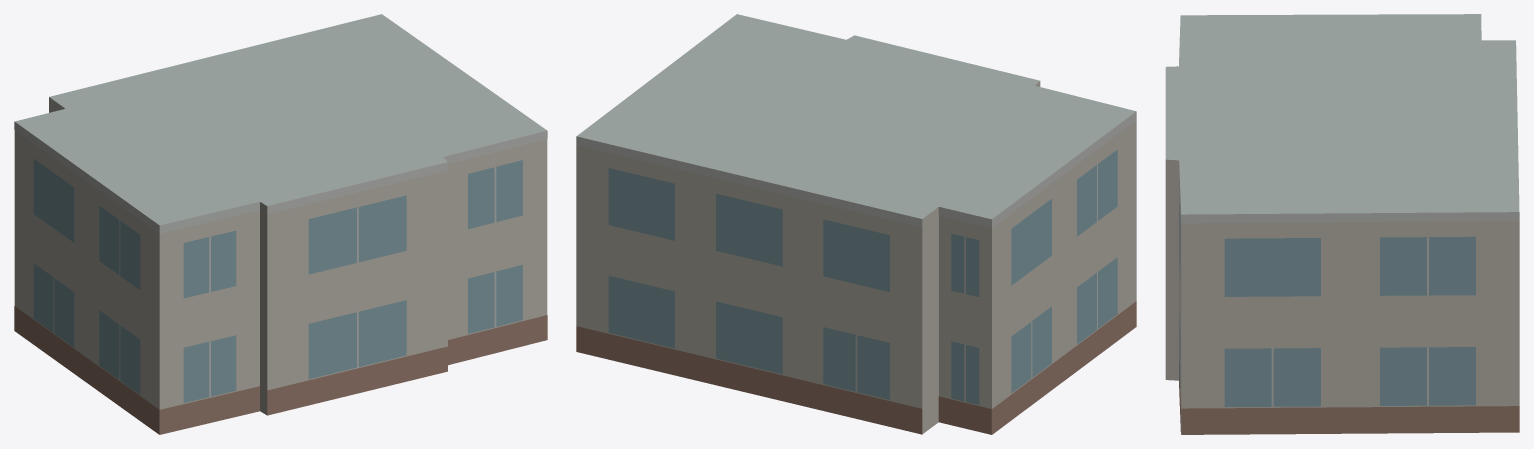
File: survey-upis-32910248.glb
The picture shows the model from 3 angles, left to right: view 1: azimuth 30°, elevation 25°; view 2: azimuth 150°, elevation 25°; view 3: azimuth 270°, elevation 25°; orthographic projection. The views are drawn at different scales.
Visible parts, largest first — view 1: survey-upis-32910248.tmp; view 2: survey-upis-32910248.tmp; view 3: survey-upis-32910248.tmp.
Part boxes in pixels (<box>): survey-upis-32910248.tmp: <box>14,14,547,434</box>; survey-upis-32910248.tmp: <box>576,14,1136,434</box>; survey-upis-32910248.tmp: <box>1165,14,1519,434</box>.
Bounding box in the file's own units: 11.91 × 6.1 × 8.89.
